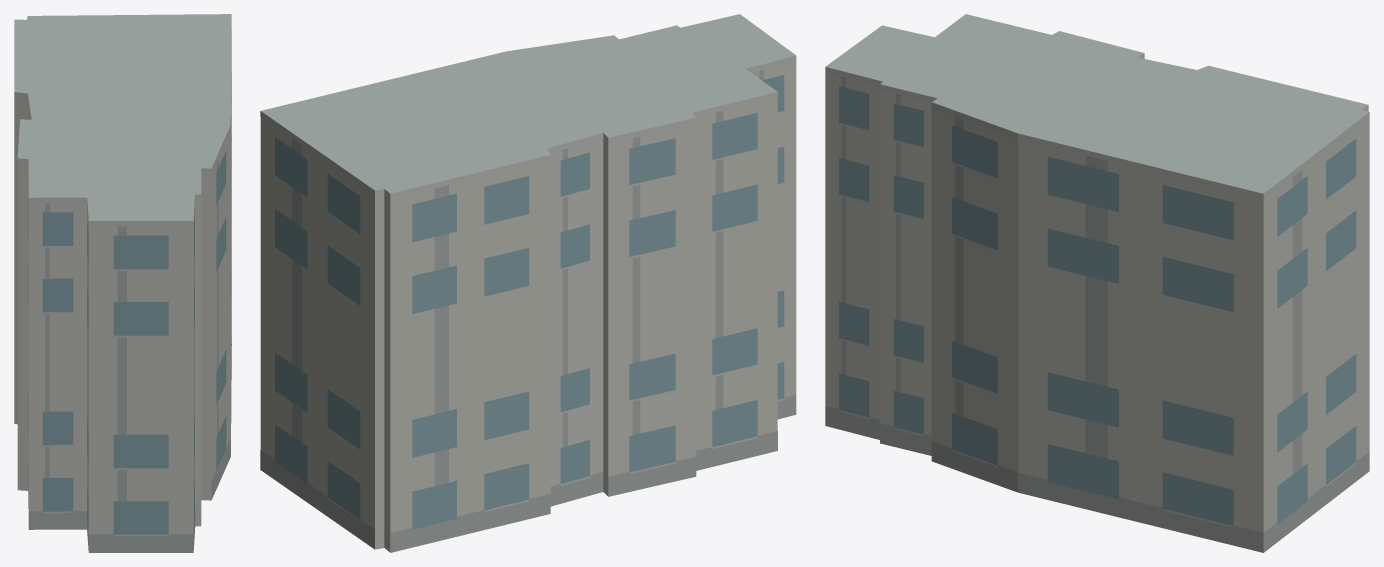
File: survey-upis-32479539.glb
3 views of the same model, side by side, from view 1: azimuth 30°, elevation 25°; view 2: azimuth 150°, elevation 25°; view 3: azimuth 270°, elevation 25° (orthographic). The views are drawn at different scales.
Parts seen in each view (by area): view 1: survey-upis-32479539.tmp; view 2: survey-upis-32479539.tmp; view 3: survey-upis-32479539.tmp.
Part boxes in pixels (left/top/right/bottom): survey-upis-32479539.tmp: left=14, top=14, right=231, bottom=552; survey-upis-32479539.tmp: left=260, top=14, right=796, bottom=552; survey-upis-32479539.tmp: left=825, top=14, right=1369, bottom=552.
Size of the model in its own units: 16.38 by 15.25 by 20.96.
